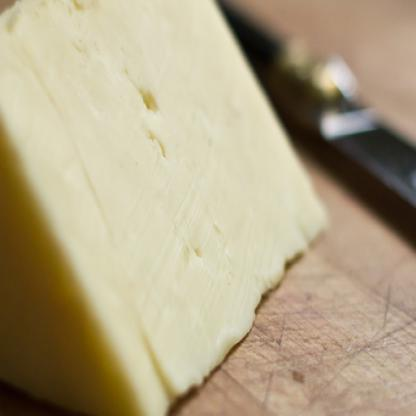knife: (210, 0, 416, 343)
